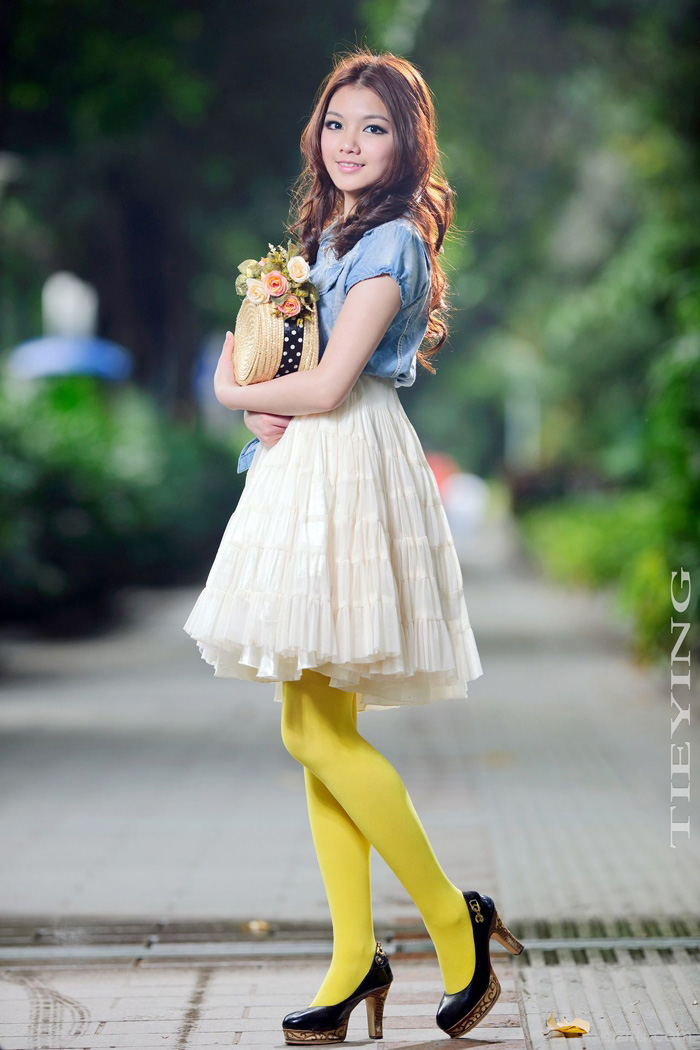women: (182, 47, 527, 1044)
